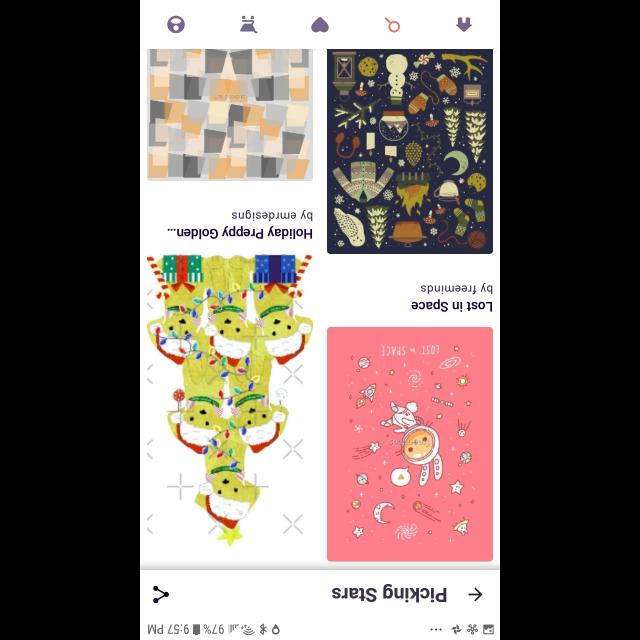icon: (239, 16, 257, 34), (167, 16, 185, 34), (153, 585, 169, 603), (311, 16, 329, 32), (456, 18, 472, 32), (384, 18, 400, 32), (468, 587, 482, 601)
image: (147, 255, 313, 548), (327, 326, 493, 562), (327, 49, 493, 254), (147, 49, 313, 181)
text: (332, 584, 446, 602), (168, 225, 312, 239), (412, 298, 492, 312), (232, 210, 312, 222), (420, 282, 492, 294)
uppertaskbar: (140, 623, 500, 639)
